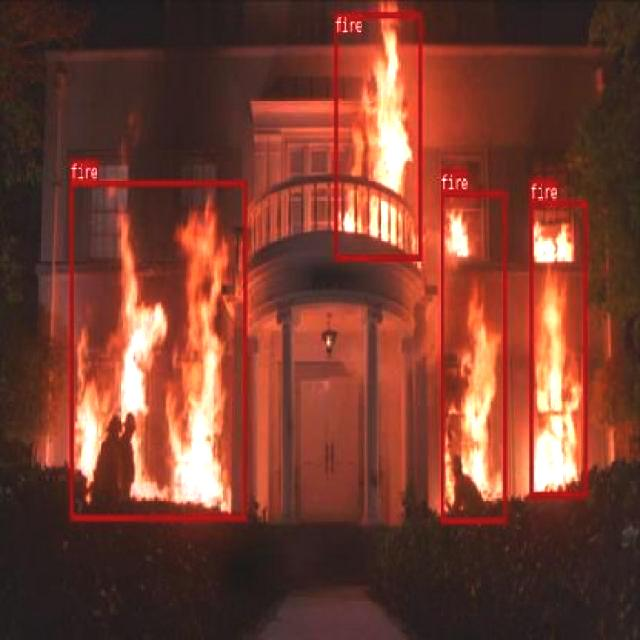fire: (69, 180, 246, 518), (440, 190, 506, 522), (334, 12, 422, 260), (529, 198, 586, 497)
